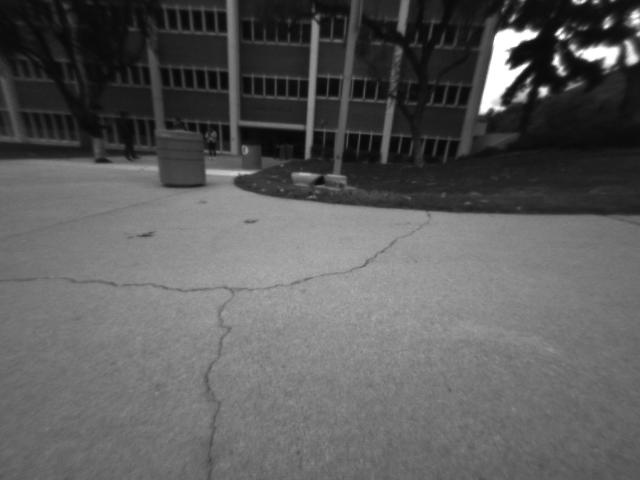trashcan: (152, 126, 207, 192), (240, 140, 263, 173)
